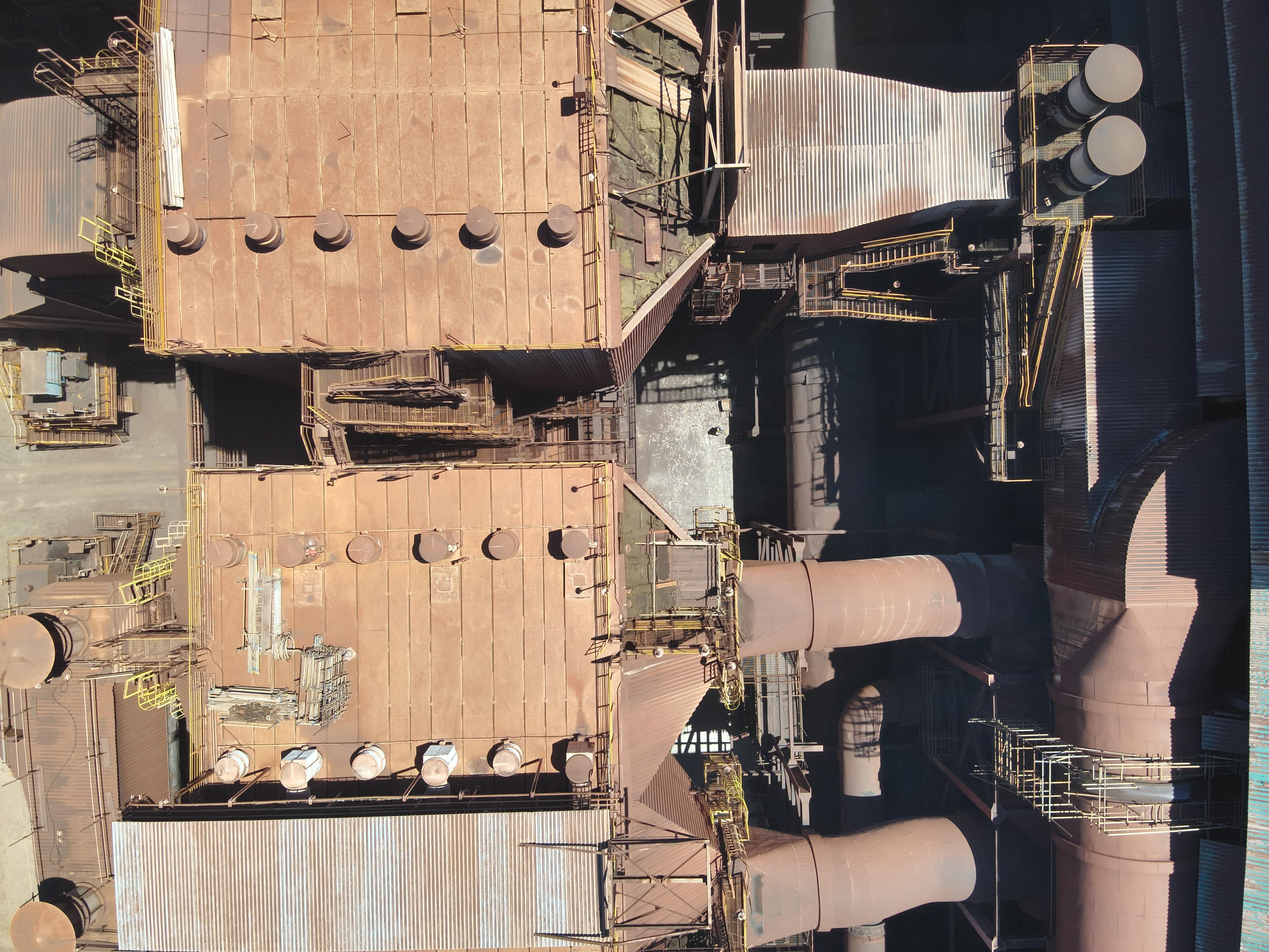Failures: (602, 80, 728, 332), (620, 480, 696, 652), (605, 3, 714, 91)
